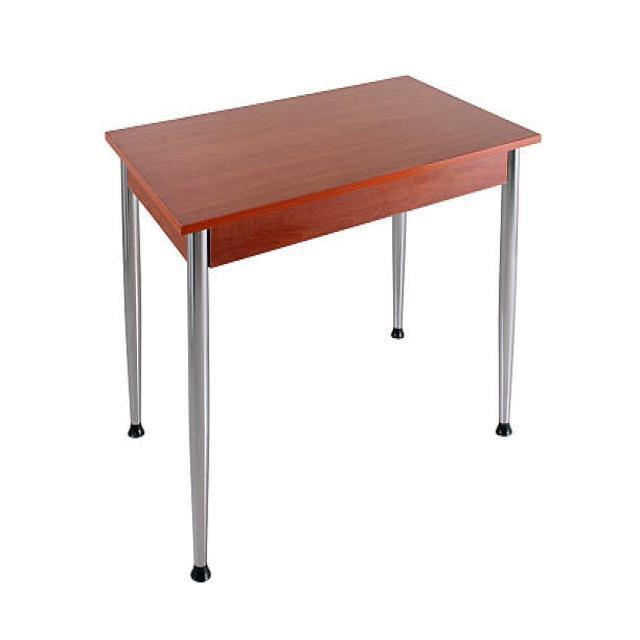table: (104, 72, 542, 582)
